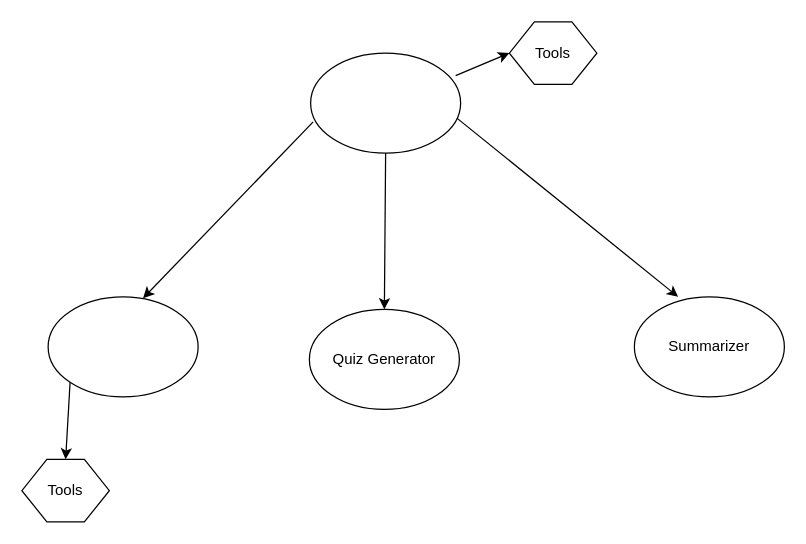
Image size: 806x544. Some labels were removed from this diagram. Each missing label, with the centre of its shape:
"Explainer" belongs at (122,346).
"Planner" belongs at (385,102).
